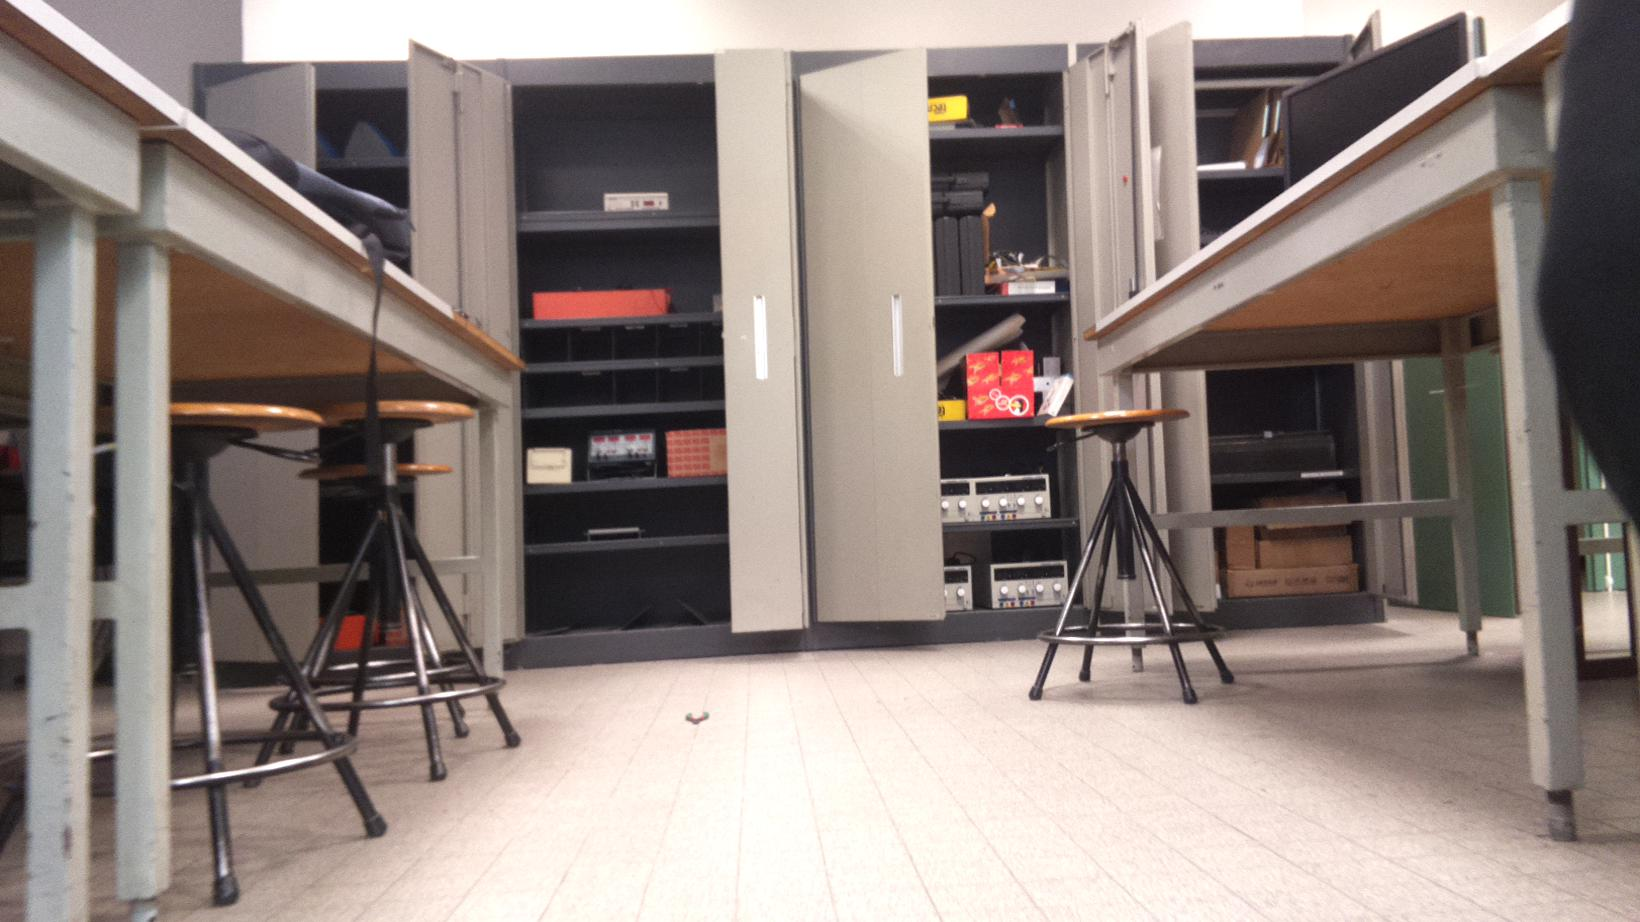small: (681, 709, 711, 727)
